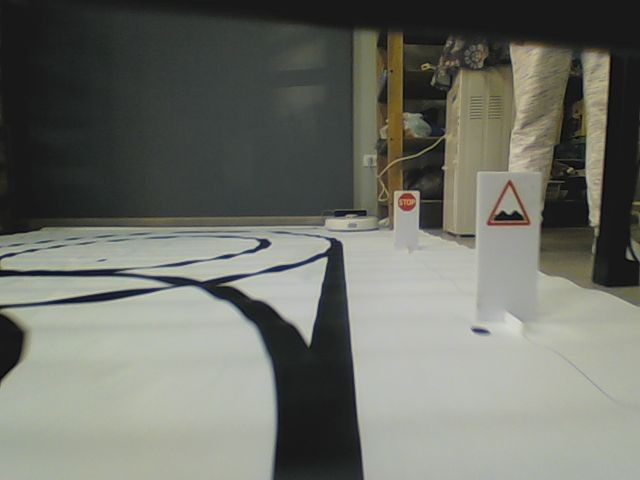Nerov: (487, 179, 532, 228)
Stop: (397, 192, 416, 211)
